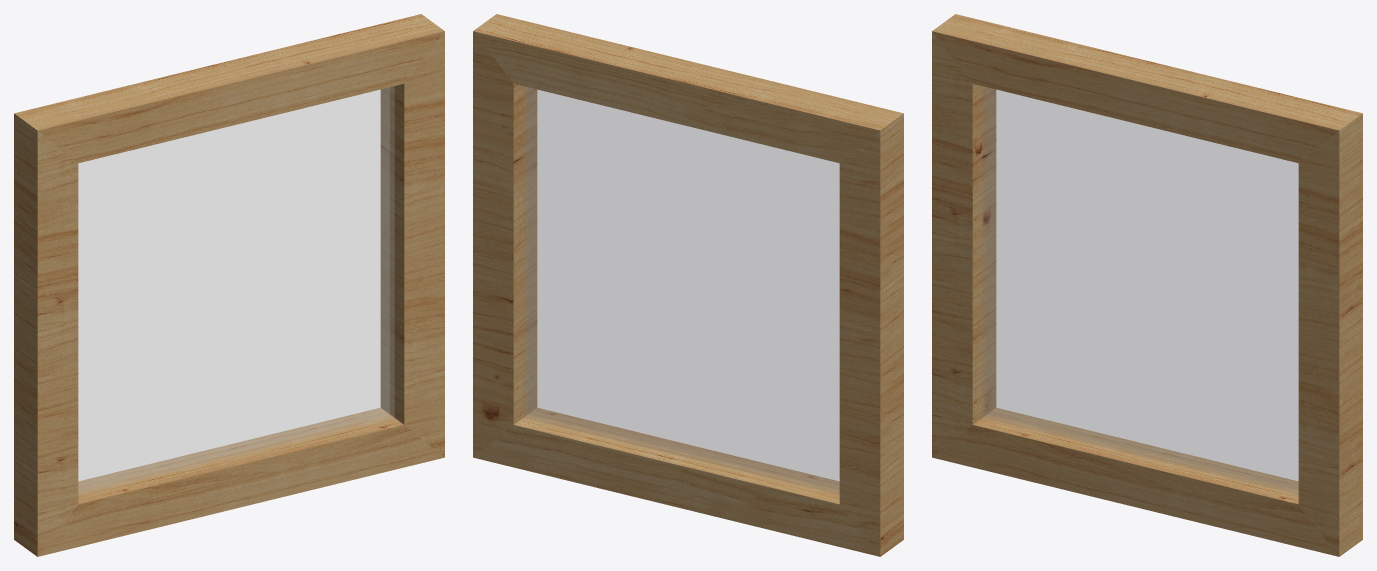
Rendered from window.dae.
The picture shows the model from 3 angles, left to right: view 1: azimuth 30°, elevation 25°; view 2: azimuth 150°, elevation 25°; view 3: azimuth 330°, elevation 25°; orthographic projection.
Visible parts, largest first — view 1: window; view 2: window; view 3: window.
Part boxes in pixels (bbox=[...]): window: bbox=[14, 14, 444, 556]; window: bbox=[473, 14, 903, 556]; window: bbox=[932, 14, 1362, 556].
Size of the model in its own units: 1 by 0.1 by 1.
2 materials, 1 textured.
